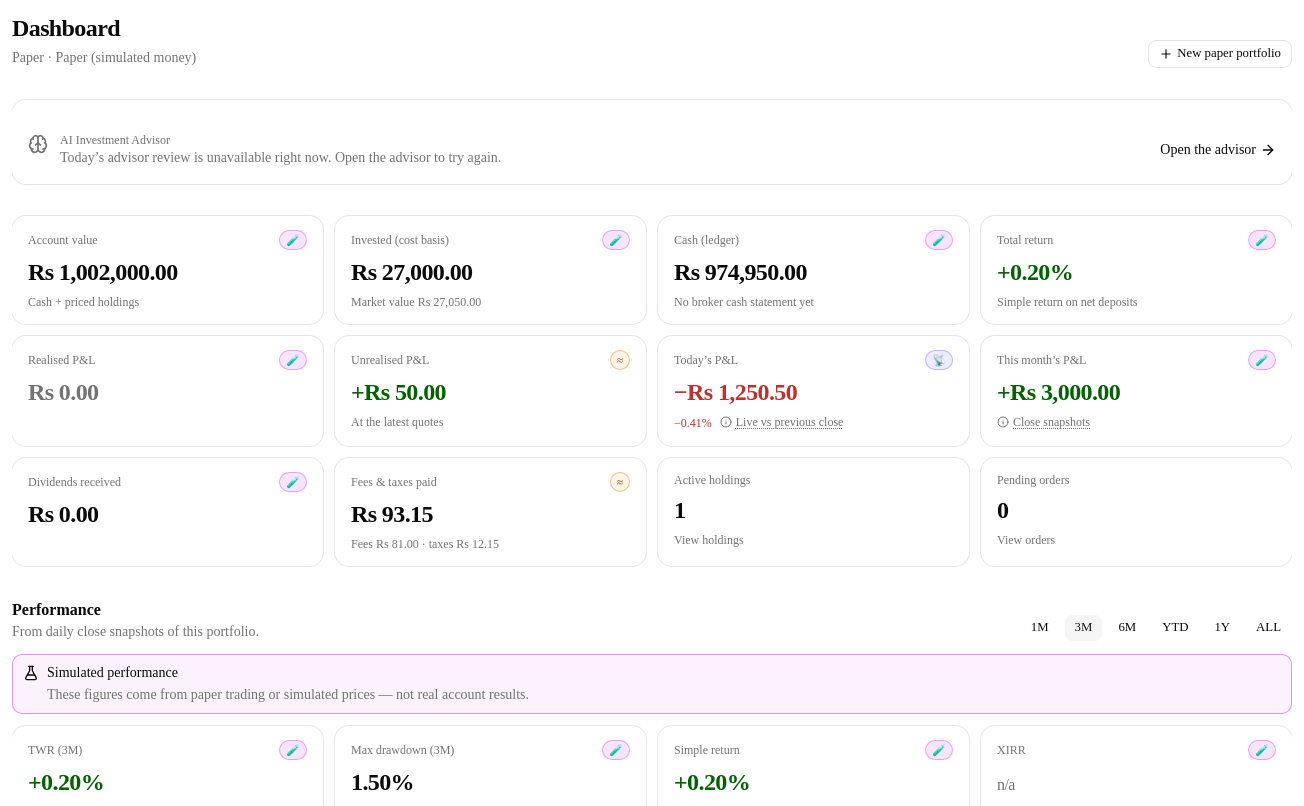
Test: Dashboard › explains the basis of today’s and this month’s P&L in a tooltip
The image size is (1304, 806).
Expected: the text "−Rs 1,250.50" is shown, left=674, top=376, right=797, bottom=408
Hover over the button "Live vs previous close" at (782, 422), box left=720, top=414, right=844, bottom=430
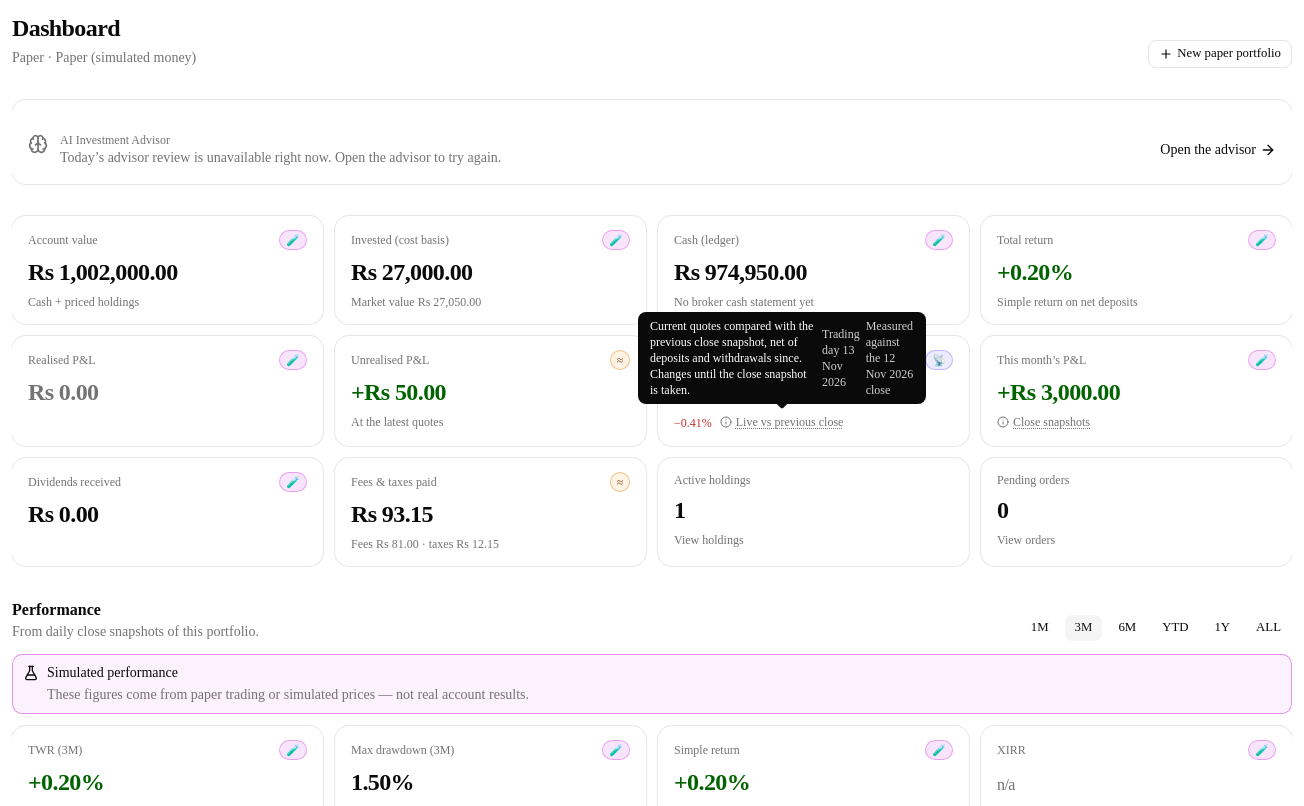
Expected: the text "Current quotes compared with the previous close snapshot" is shown, left=650, top=319, right=813, bottom=397
